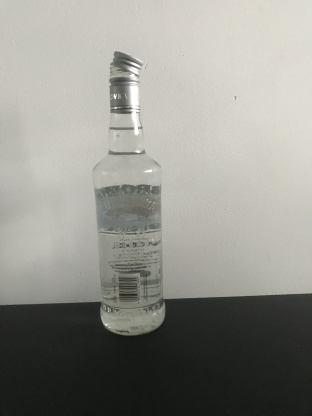nakretka: (107, 48, 143, 114)
